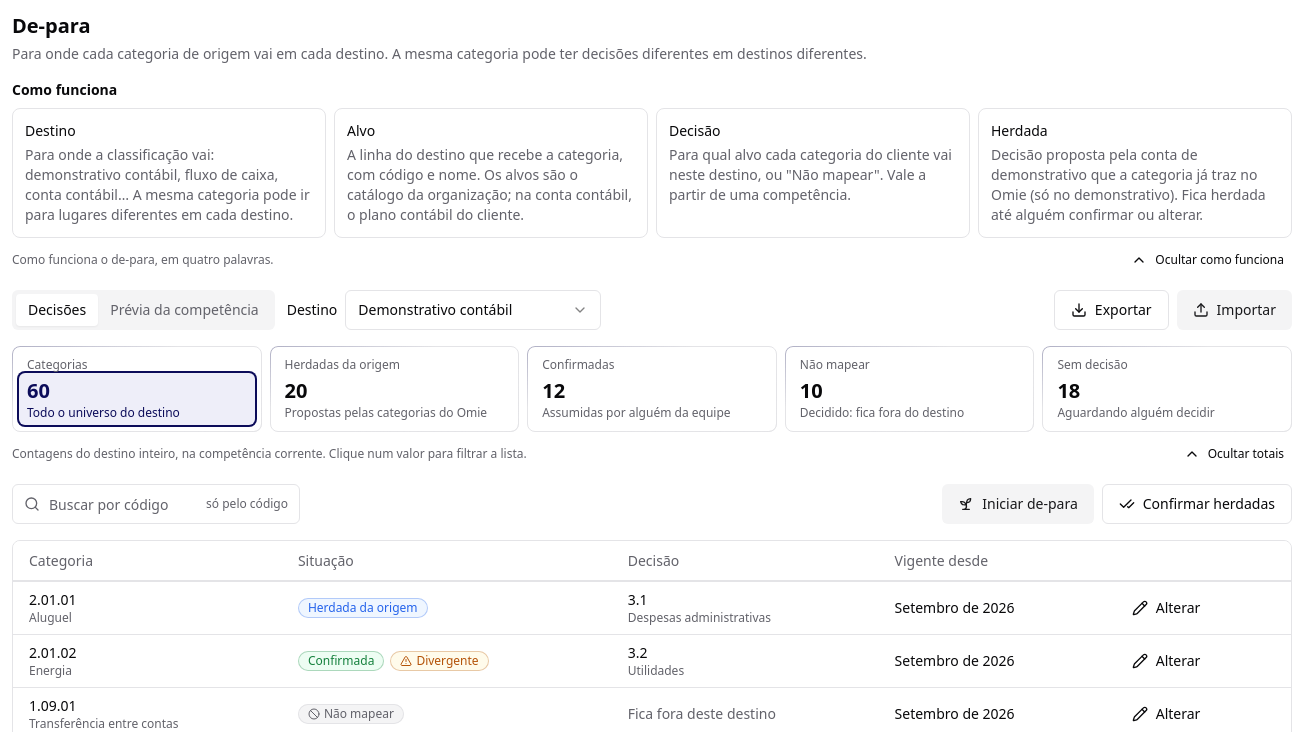
Test case: ClientMappingScreen — "Como funciona" (86e3n70pn) › explica destino, alvo, decisão e herdada, e recolhe lembrando a escolha
Check: the text "Destino" is shown, box top-left (25, 121), bottom-right (76, 140)
Check: the text "Alvo" is shown, box top-left (347, 121), bottom-right (375, 140)
Click the button "Ocultar como funciona": (1208,260) top-left (1123, 246), bottom-right (1292, 274)
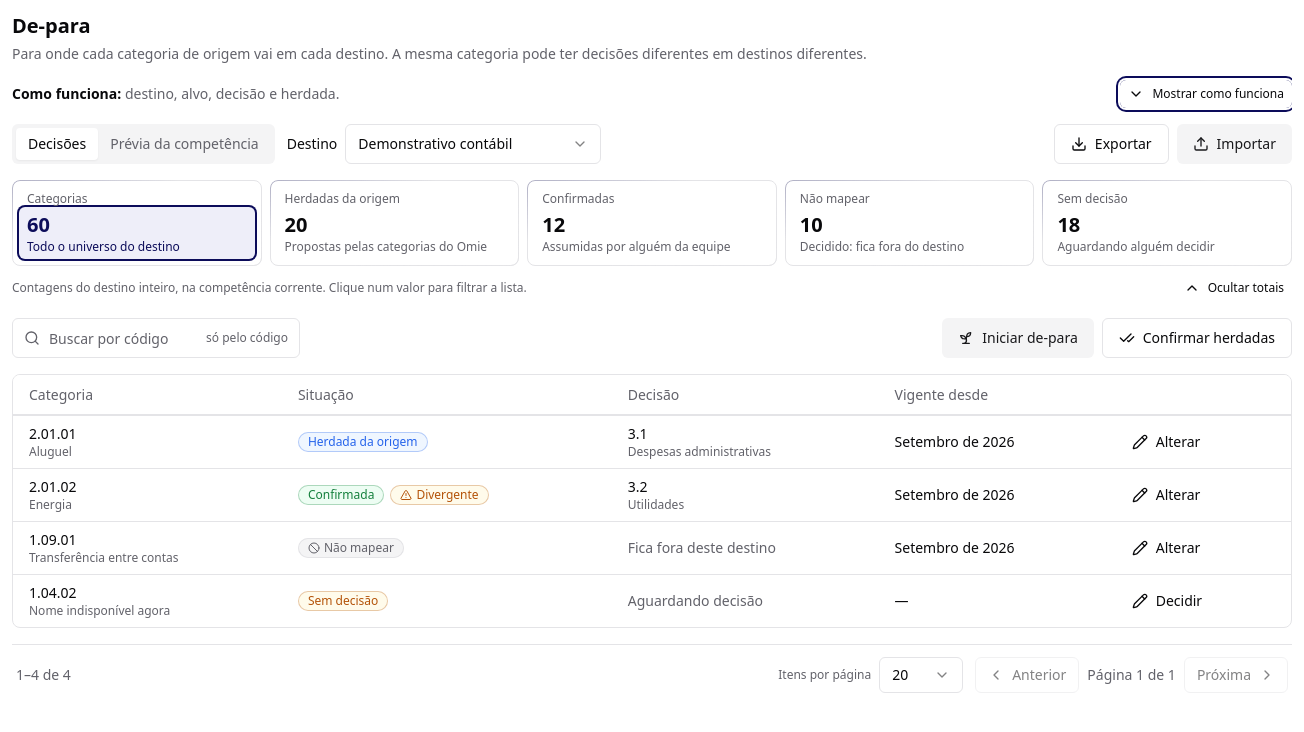
Check: the button "Mostrar como funciona" is collapsed, box top-left (1120, 80), bottom-right (1292, 108)
